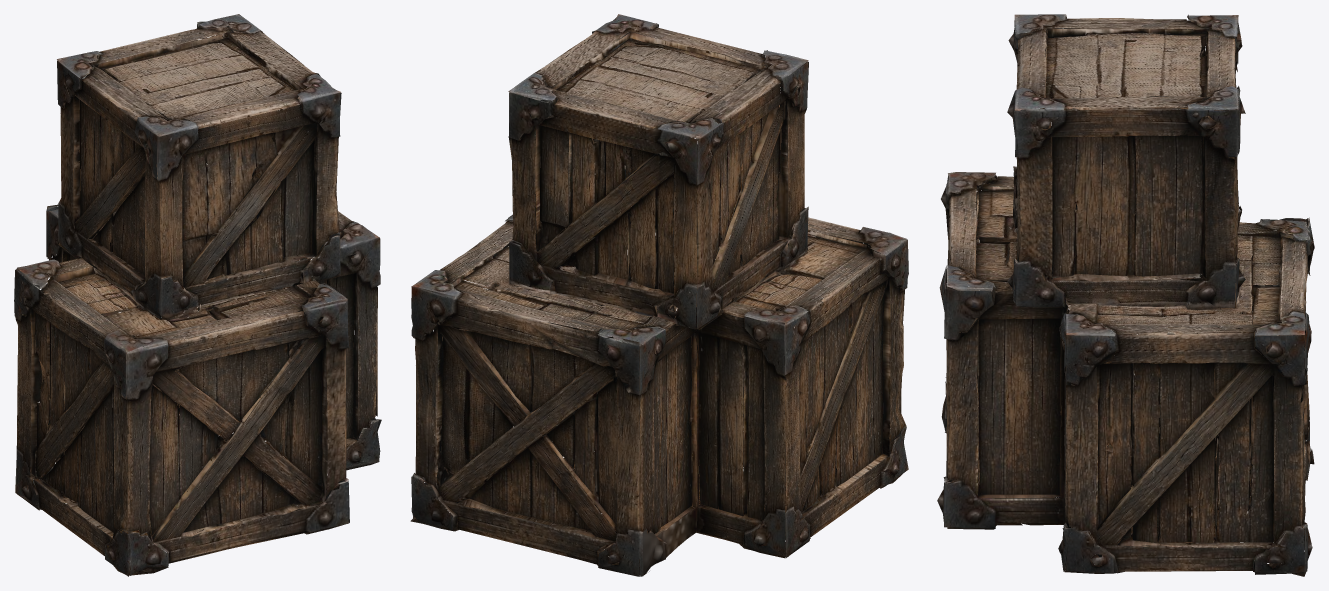
File: CrateStack.fbx
3 renders of one model, left to right at view 1: azimuth 30°, elevation 25°; view 2: azimuth 150°, elevation 25°; view 3: azimuth 270°, elevation 25°, orthographic. The views are drawn at different scales.
Parts seen in each view (by area): view 1: CrateStack; view 2: CrateStack; view 3: CrateStack.
Part boxes in pixels (x1=…): CrateStack: x1=14, y1=14, x2=381, y2=576; CrateStack: x1=410, y1=14, x2=908, y2=576; CrateStack: x1=937, y1=14, x2=1314, y2=576.
Size of the model in its own units: 81.59 by 100 by 78.04.
1 material, 1 textured.
